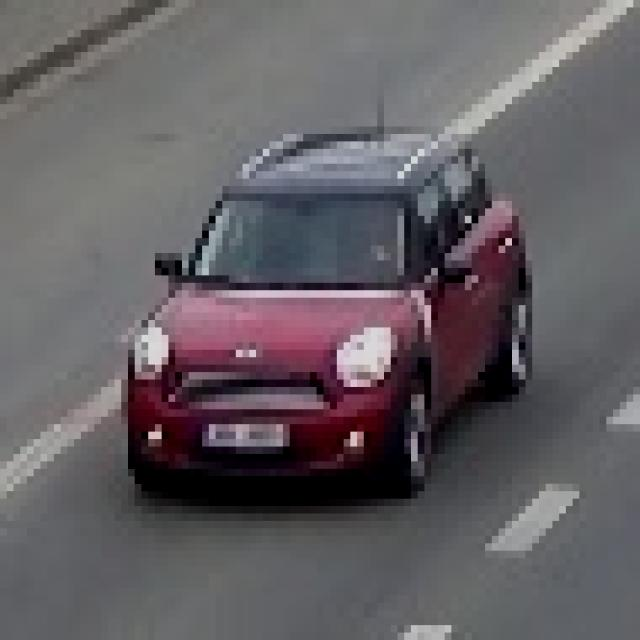maroon: (120, 133, 531, 503)
